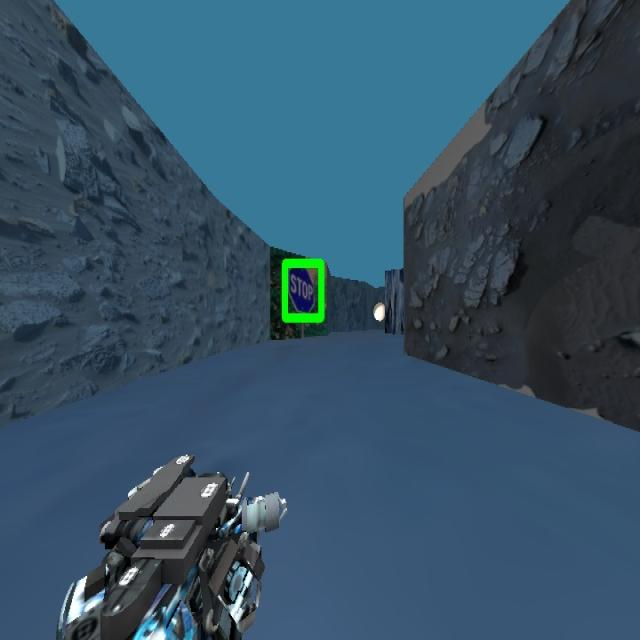Circle: (361, 285, 404, 335)
Stop_Sign: (280, 256, 325, 324)
